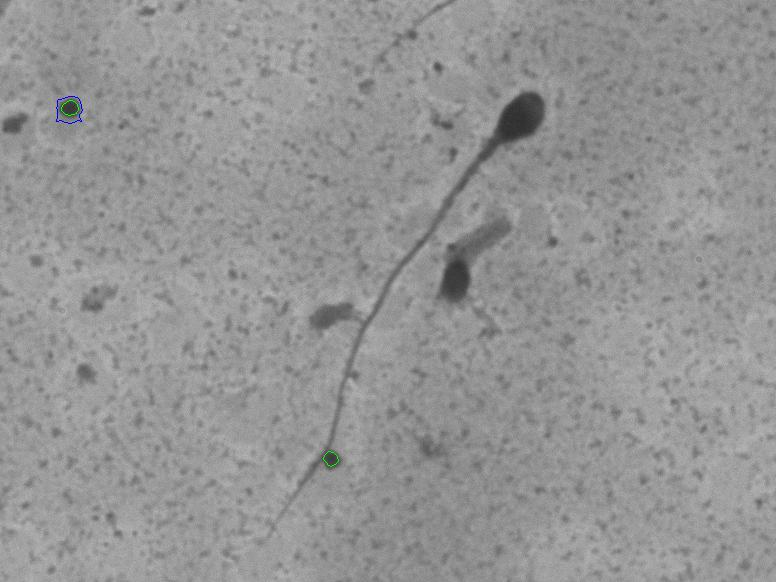Normal: (247, 74, 566, 548)
